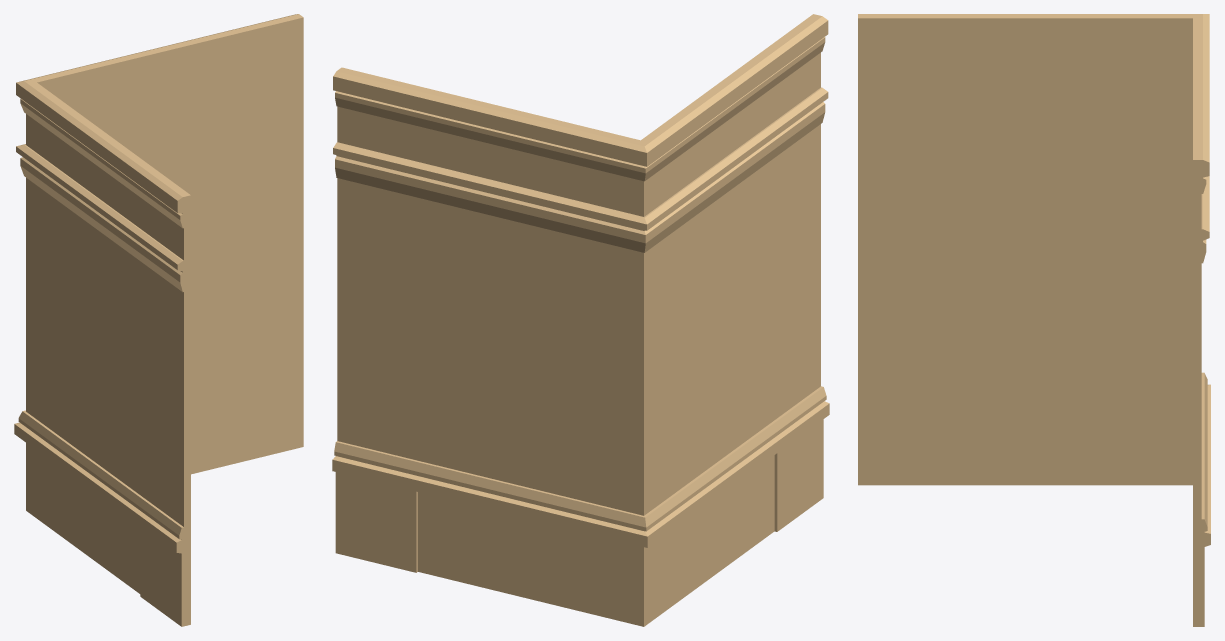
File: Corner_A_OUTER_STRAIGHT.fbx
3 renders of one model, left to right at view 1: azimuth 30°, elevation 25°; view 2: azimuth 150°, elevation 25°; view 3: azimuth 270°, elevation 25°, orthographic. The views are drawn at different scales.
Parts seen in each view (by area): view 1: Corner_B_OUTER_ROUNDED.001; view 2: Corner_B_OUTER_ROUNDED.001; view 3: Corner_B_OUTER_ROUNDED.001.
Part boxes in pixels (x1=…): Corner_B_OUTER_ROUNDED.001: x1=14, y1=14, x2=303, y2=626; Corner_B_OUTER_ROUNDED.001: x1=332, y1=14, x2=829, y2=626; Corner_B_OUTER_ROUNDED.001: x1=858, y1=14, x2=1210, y2=626.
Bounding box in the file's own units: 205 × 205 × 300.
